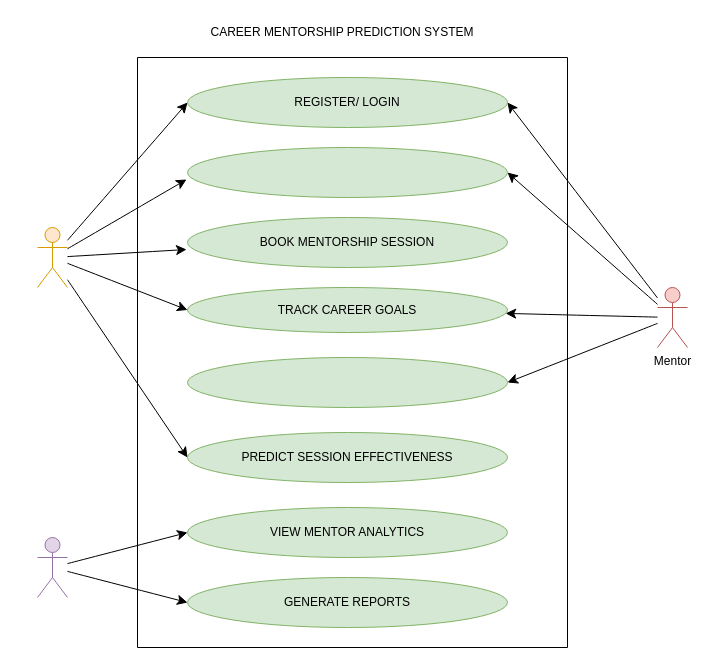
Image size: 708x665. Some labels were removed from this diagram. Each missing label, with the centre of its shape:
Administrator: pixel 52 567
MANAGE PROFILE: pixel 347 172
Mentee: pixel 52 257
SUBMIT STRUCTURED FEEDBACK: pixel 347 382
